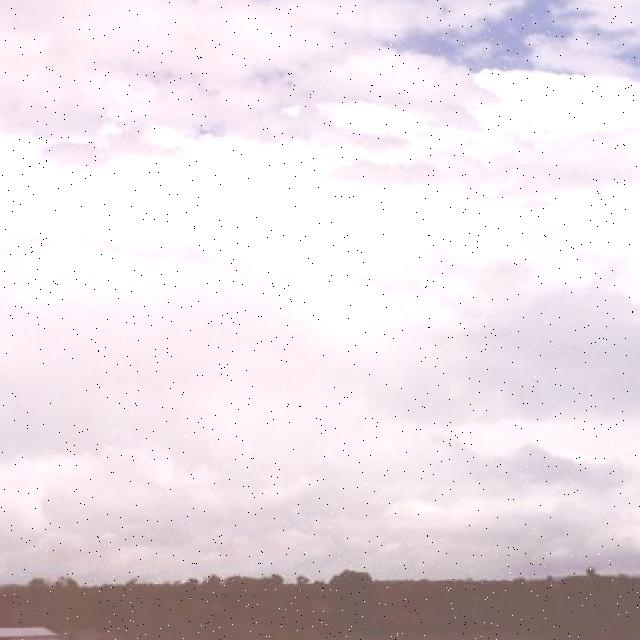St: (1, 1, 640, 478)
